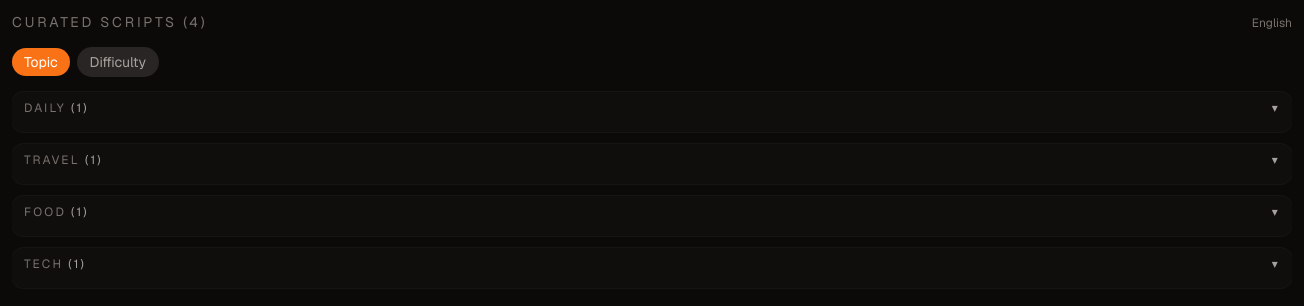
Test: CuratedScripts difficulty mode › switching to Difficulty regroups by CEFR level
The image size is (1304, 306).
Click the button "Difficulty" at (118, 62), box [78, 48, 158, 76]
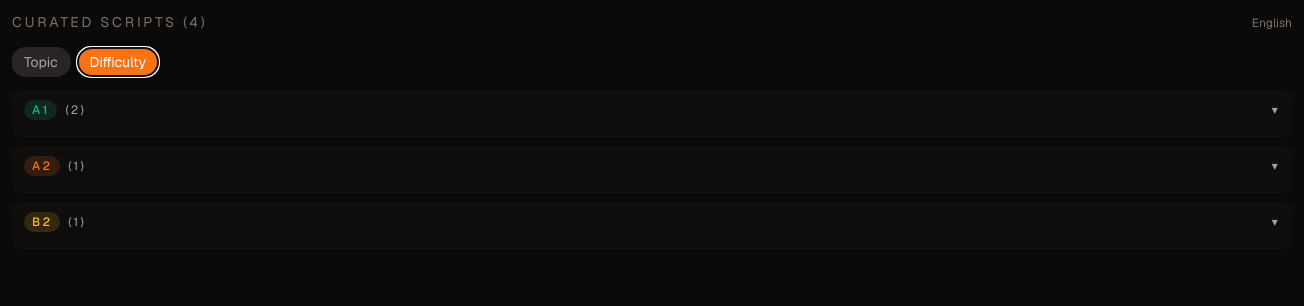
Result: the element with test id "level-group-A1" is shown at [12, 92, 1292, 136]
Result: the element with test id "level-group-A2" is shown at [12, 148, 1292, 192]
Result: the element with test id "level-group-B2" is shown at [12, 204, 1292, 248]
